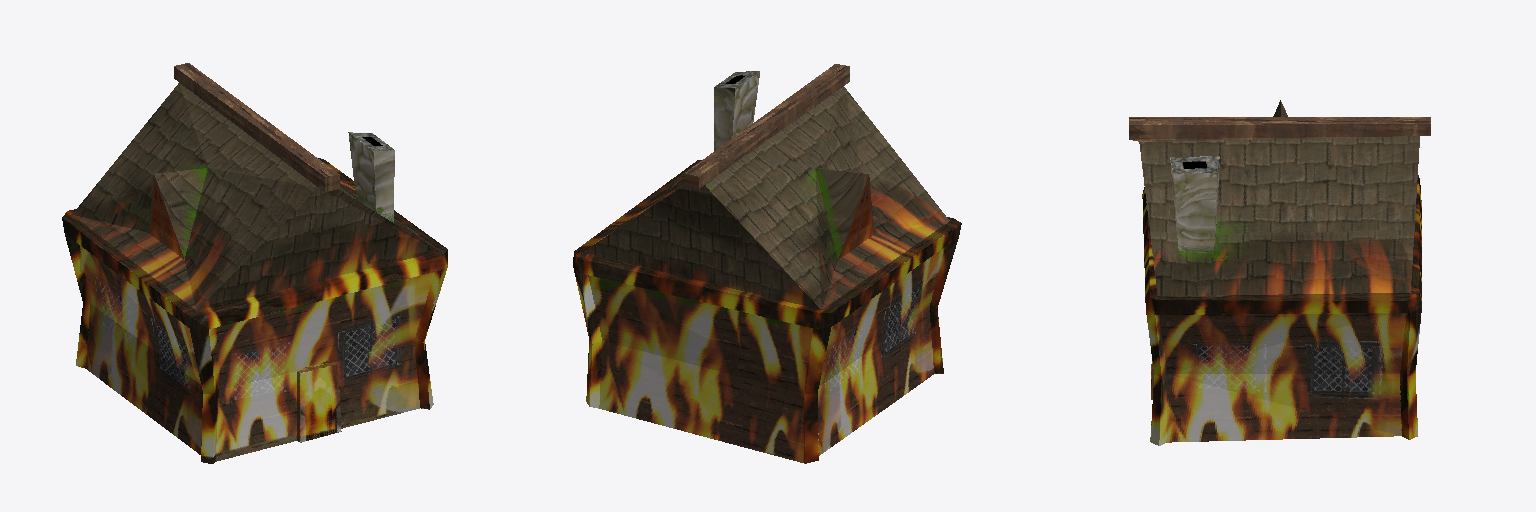
3 renders of one model, left to right at view 1: azimuth 30°, elevation 25°; view 2: azimuth 150°, elevation 25°; view 3: azimuth 270°, elevation 25°, orthographic.
Visible parts, largest first — view 1: Cube.001_Cube.002; view 2: Cube.001_Cube.002; view 3: Cube.001_Cube.002.
Boxes of the visible parts, box(x1,y1,x2,y2) form: Cube.001_Cube.002: box(62, 63, 447, 463); Cube.001_Cube.002: box(573, 64, 961, 463); Cube.001_Cube.002: box(1129, 100, 1430, 445).
Size of the model in its own units: 4 by 3.98 by 4.
Materials: 1 (1 with a texture image).